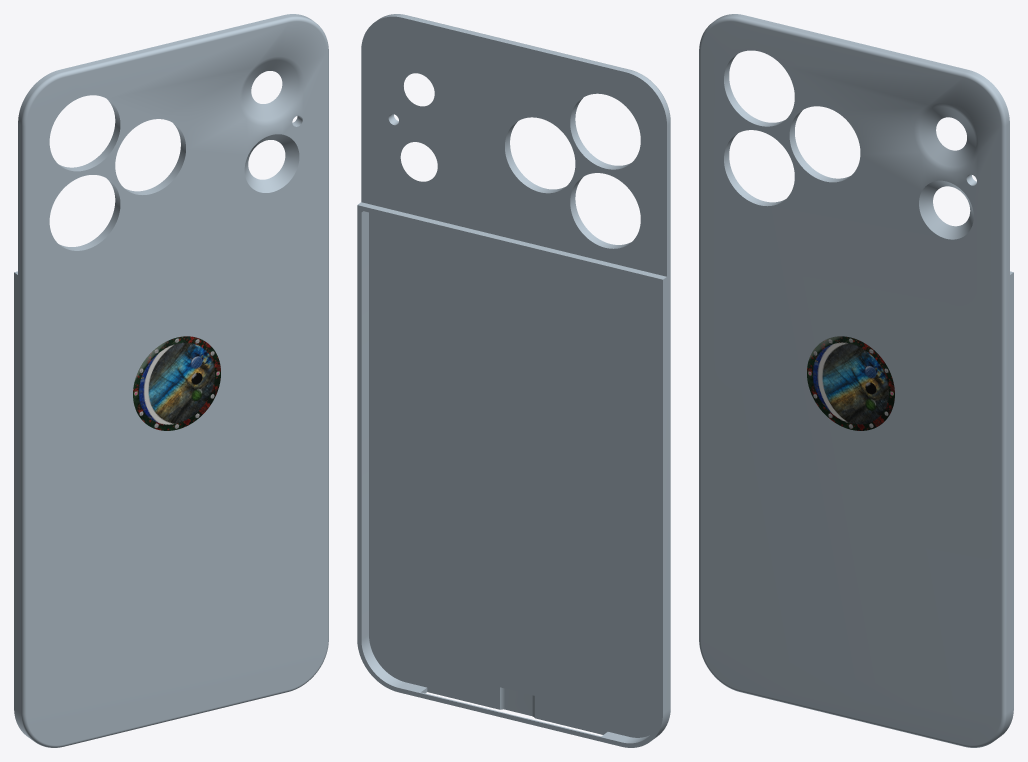
File: glacier-moldavite-shield.glb
The picture shows the model from 3 angles, left to right: view 1: azimuth 30°, elevation 25°; view 2: azimuth 150°, elevation 25°; view 3: azimuth 330°, elevation 25°; orthographic projection.
Visible parts, largest first — view 1: housing, inlay; view 2: housing; view 3: housing, inlay.
Boxes of the visible parts, <box> form: housing: <box>14,14,328,747</box>; inlay: <box>133,336,220,430</box>; housing: <box>357,14,670,747</box>; housing: <box>699,14,1013,747</box>; inlay: <box>807,336,894,430</box>.
Size of the model in its own units: 0.0711 by 0.1492 by 0.00378.
2 materials, 1 textured.
